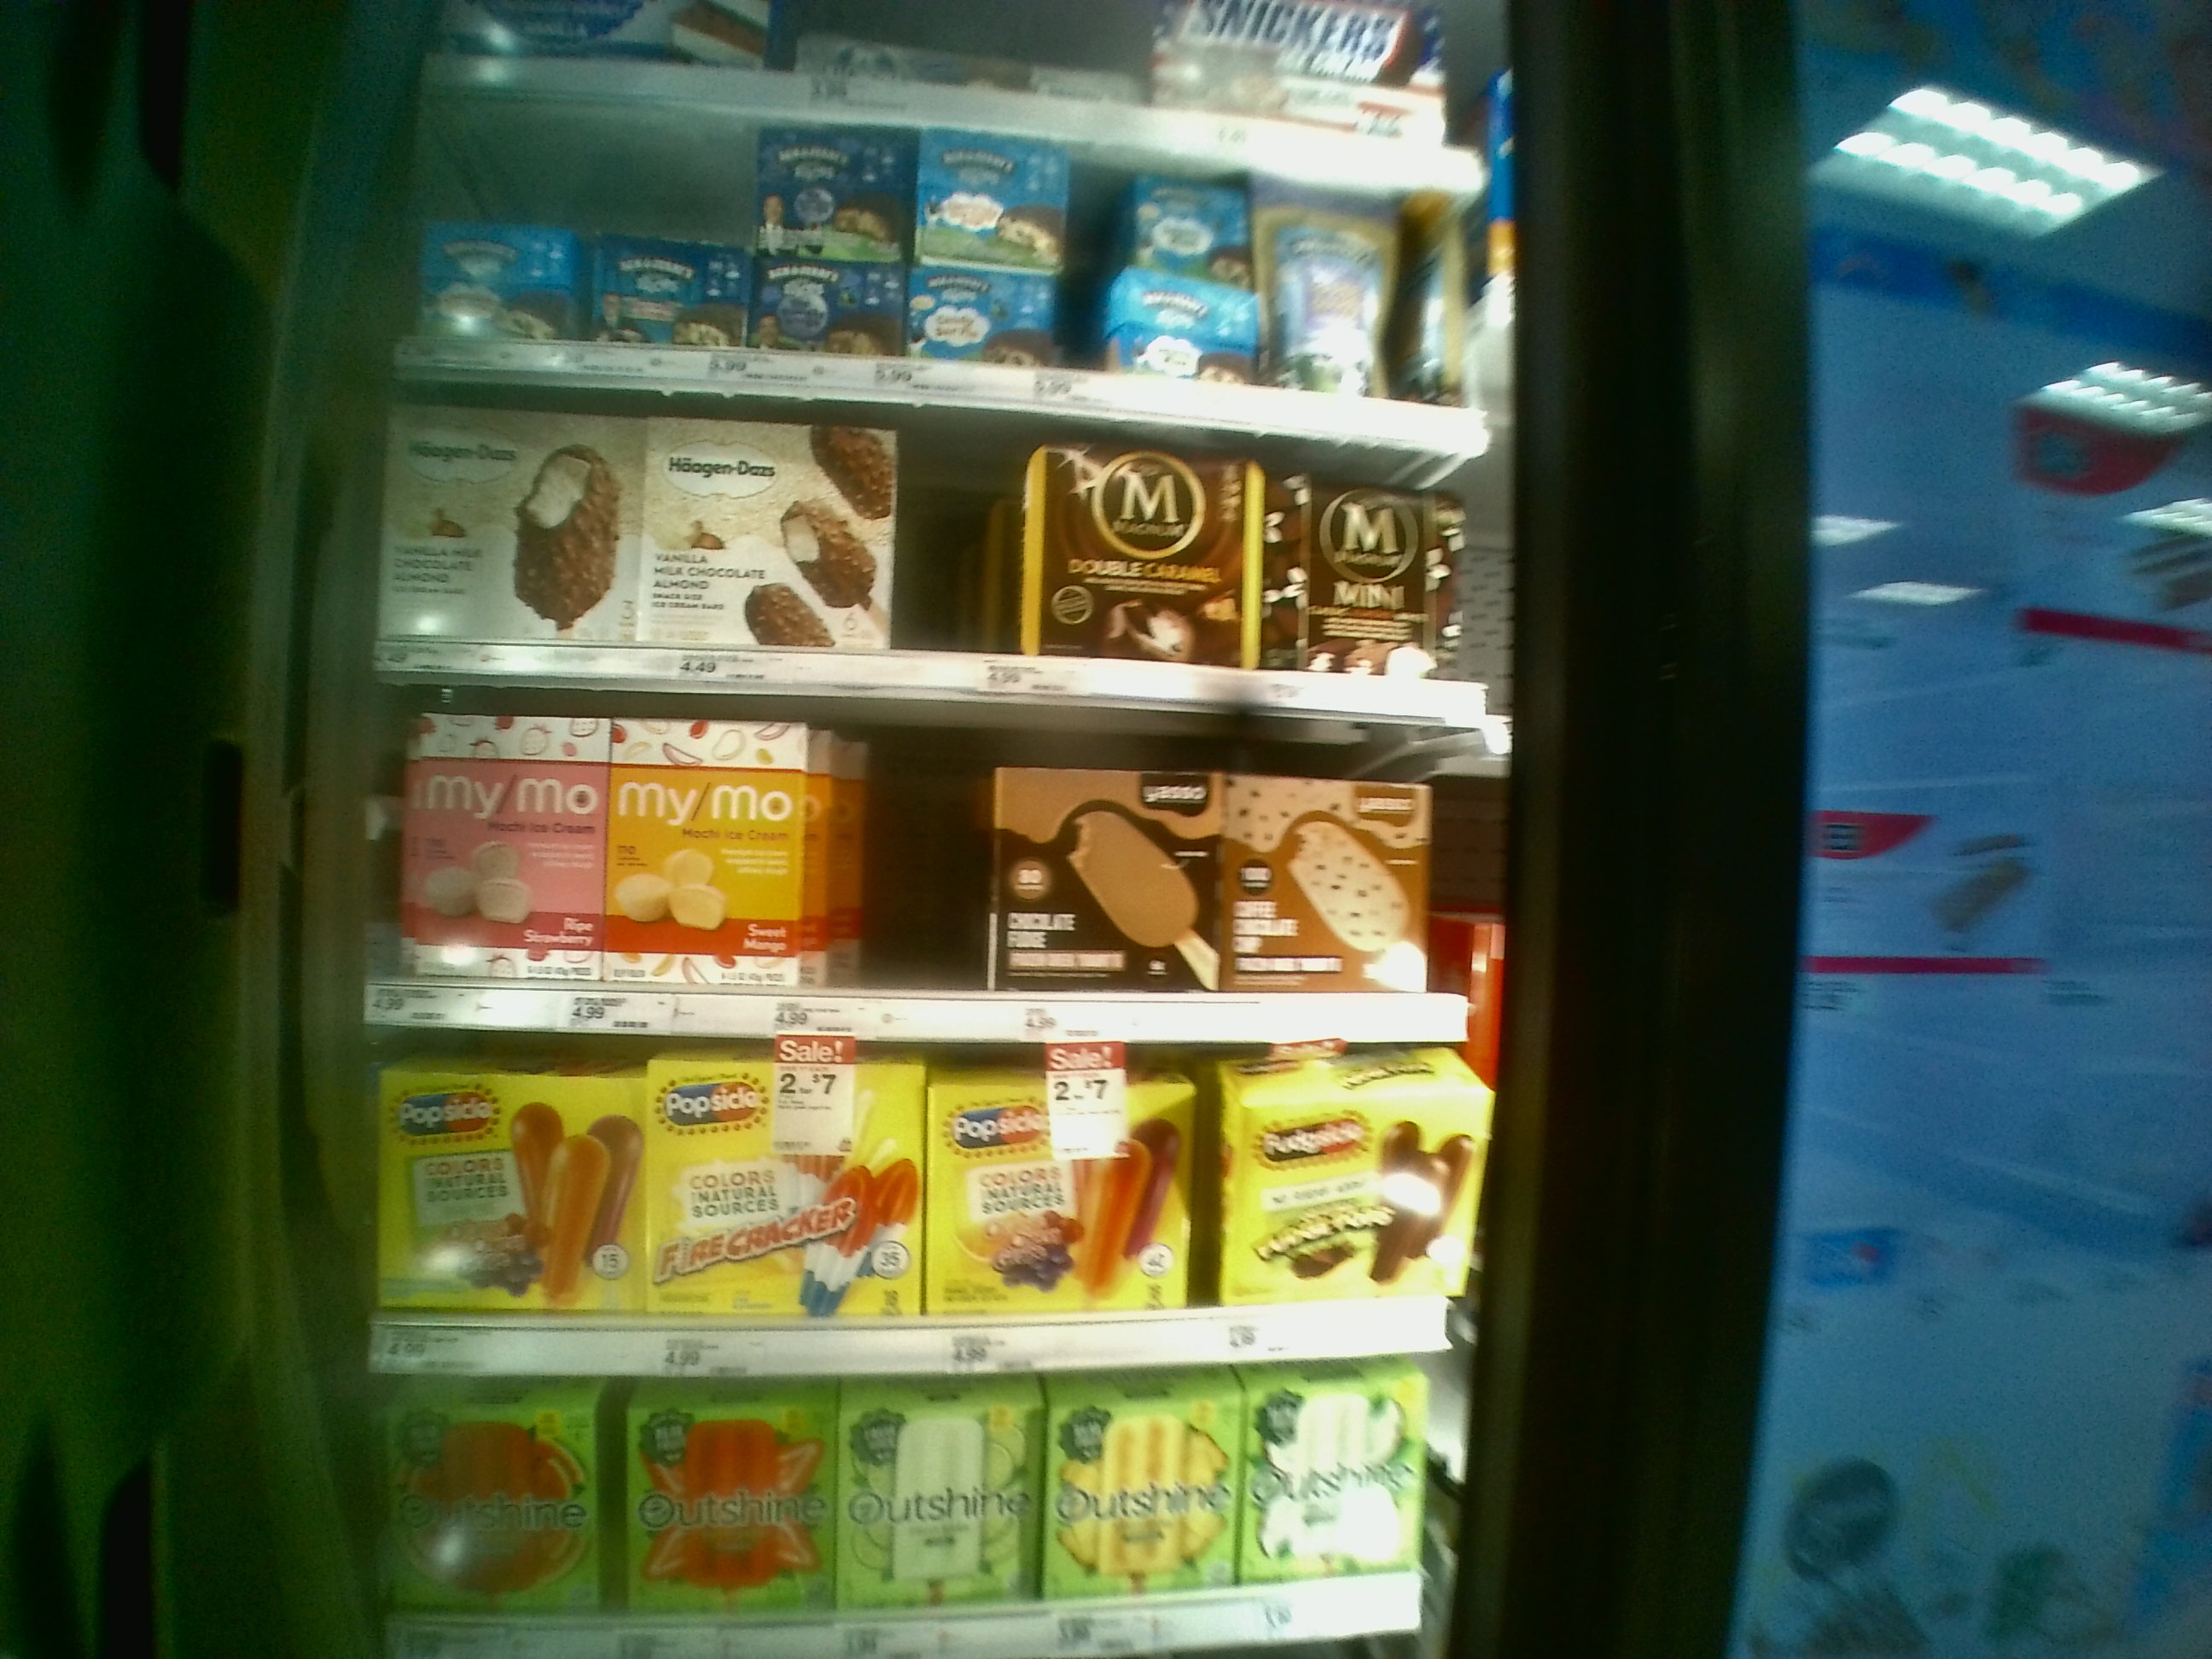ice-cream-shelf: (376, 681, 1479, 1035), (392, 382, 1508, 721), (359, 1028, 1460, 1359), (359, 1377, 1446, 1656)
